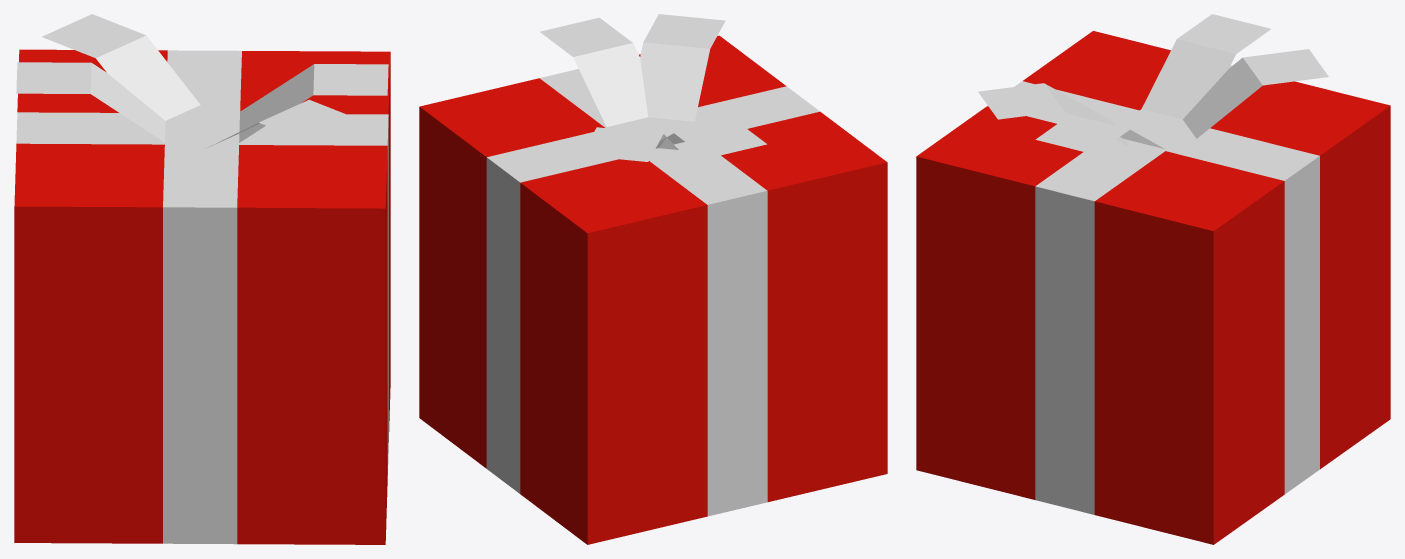
The model's file is campfire.glb.
3 views of the same model, side by side, from view 1: azimuth 30°, elevation 25°; view 2: azimuth 150°, elevation 25°; view 3: azimuth 270°, elevation 25° (orthographic). The views are drawn at different scales.
Visible parts, largest first — view 1: Cube; view 2: Cube; view 3: Cube.
Boxes of the visible parts, x1,y1,x2,y2 form: Cube: (14, 14, 390, 544); Cube: (419, 14, 887, 544); Cube: (916, 14, 1390, 544).
Size of the model in its own units: 0.6237 by 0.5228 by 0.6237.
